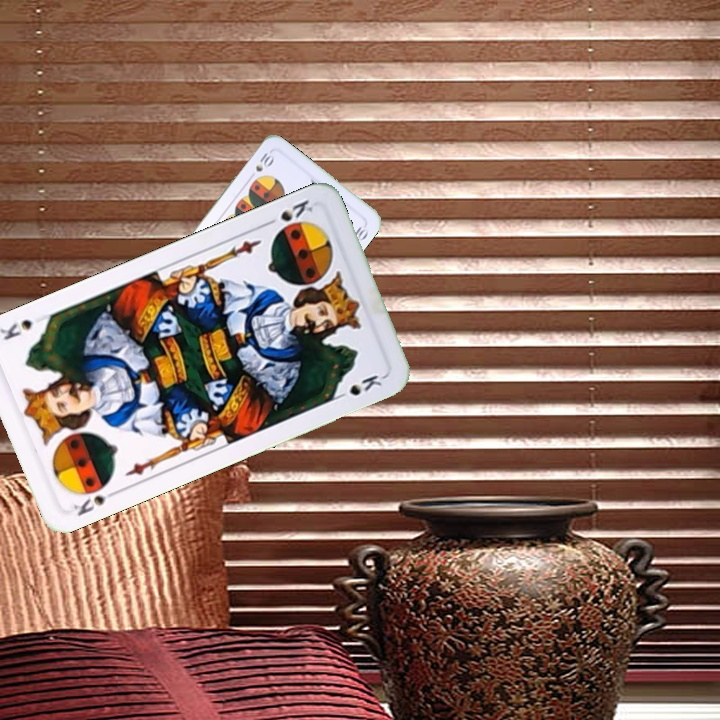S10: (251, 147, 277, 175)
SK: (260, 195, 316, 229), (69, 485, 122, 519)
